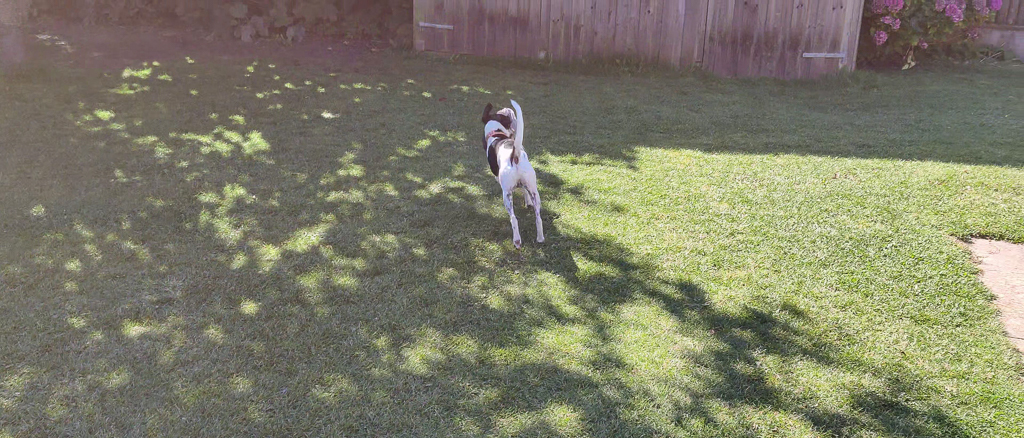Dog: (472, 94, 550, 254)
